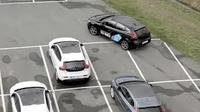car: (87, 13, 151, 50), (109, 73, 165, 112), (47, 37, 92, 83)
